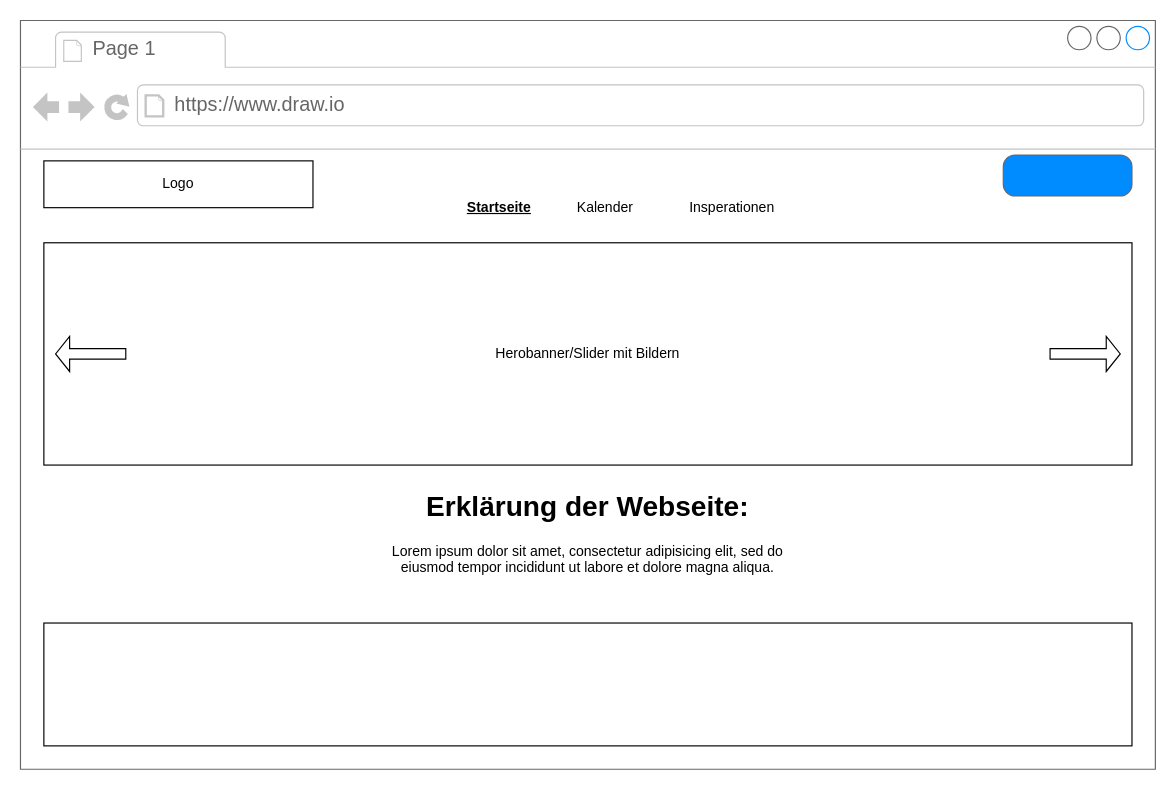
The diagram is 1176 pixels wide and 790 high, and some of its shapes have lost their labels. Here are the shapes that lost their labels. From the top down, the centre of each, then its label:
At (1067,175): "Abmelden".
At (587,684): "Footerbereich".
